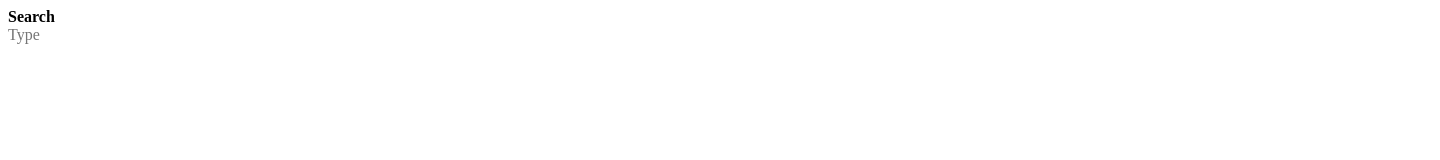
Scenario: PlaceSearch › says when nothing is found, and still works when the online search fails
Type "qqqqq" into the dropdown labelled "Search" at (720, 35), box x1=8 y1=26 x2=1432 y2=44
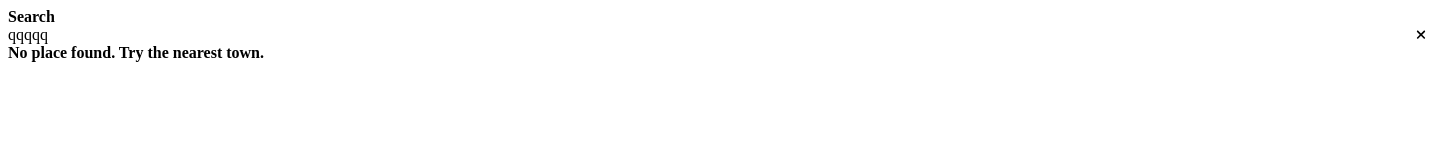
Expected: the text "No place found. Try the nearest town." is shown, x1=8 y1=44 x2=264 y2=61
